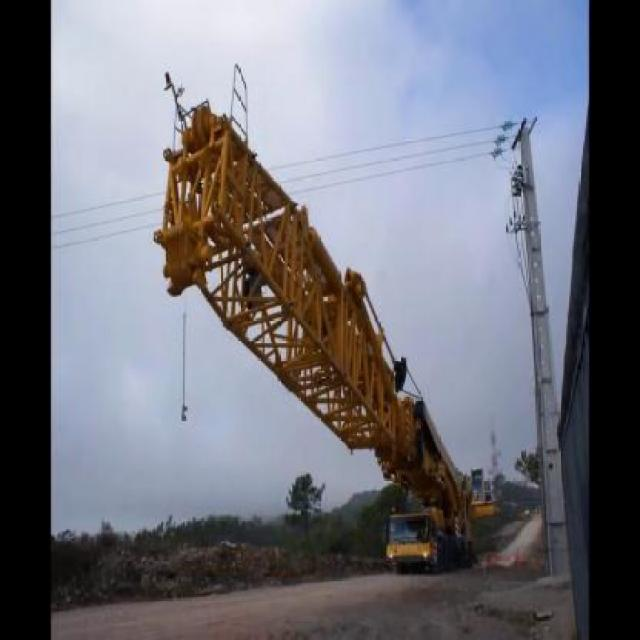Mobile Crane: (158, 111, 494, 566)
